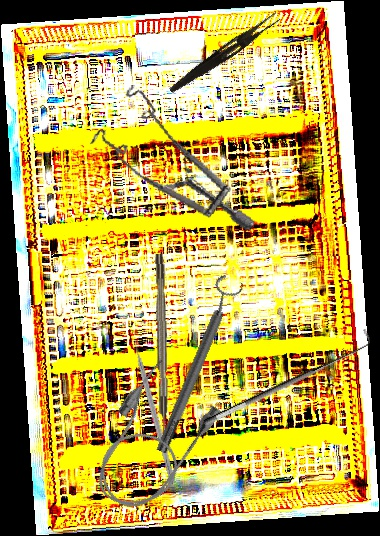Cannula: (75, 355, 227, 524)
Chopper: (130, 330, 184, 486)
Dressing Forceps: (167, 8, 282, 99)
Fixation Ring: (146, 273, 247, 457)
Hook Surgical: (196, 327, 378, 429), (155, 253, 169, 446)
Speculum: (78, 78, 278, 232)
